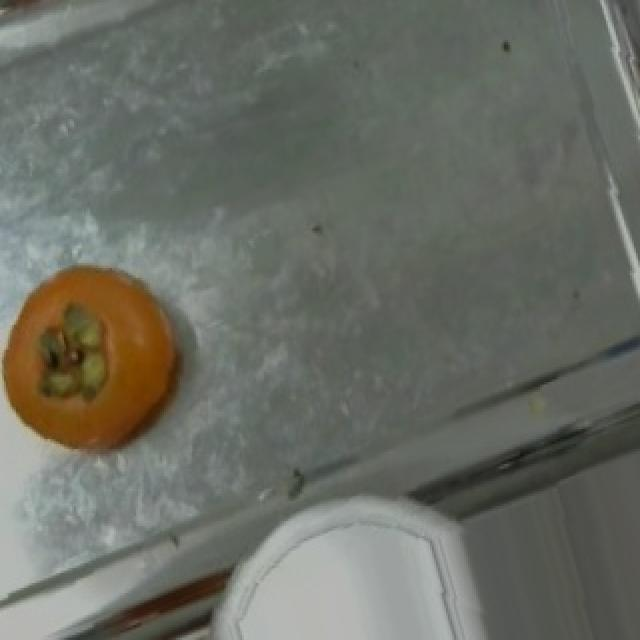Fruit: (0, 243, 204, 484), (216, 488, 472, 640)
